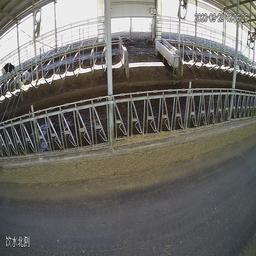cow: (1, 60, 16, 83)
